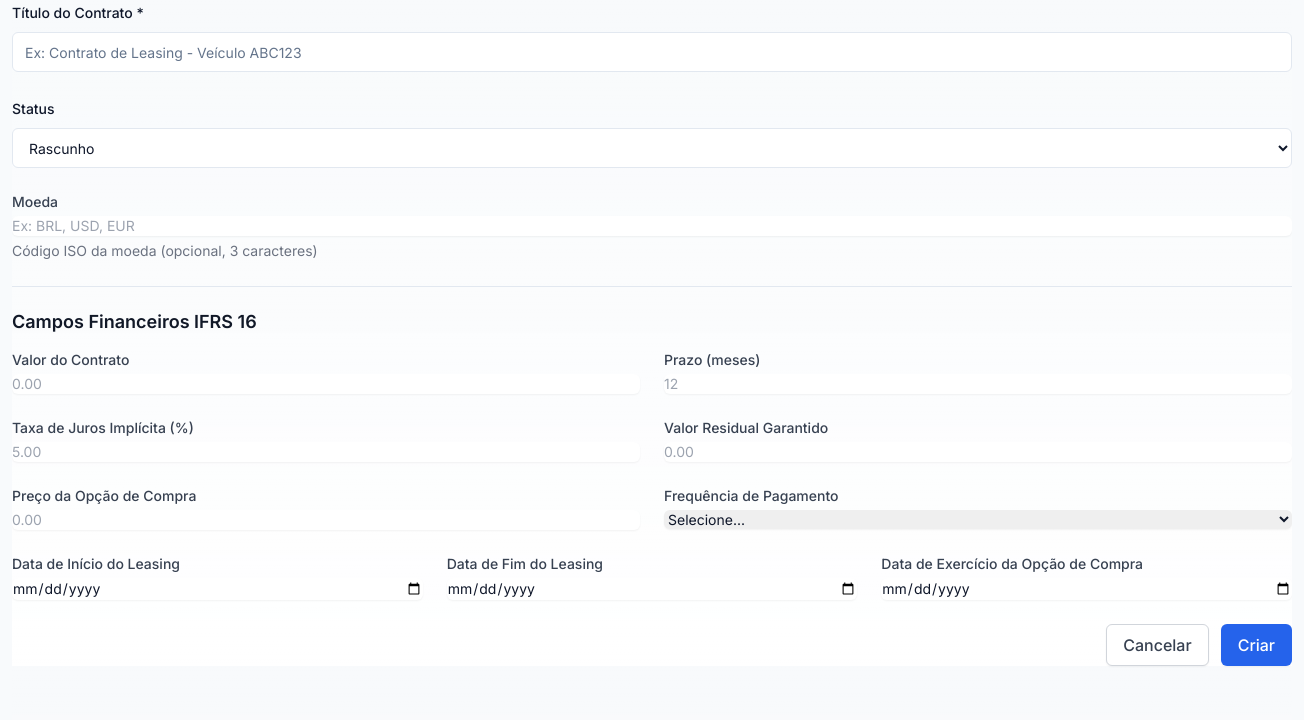
Test: ContractForm › validates required fields
The image size is (1304, 720).
Click the button "Criar" at (1256, 645), box [1221, 624, 1292, 666]
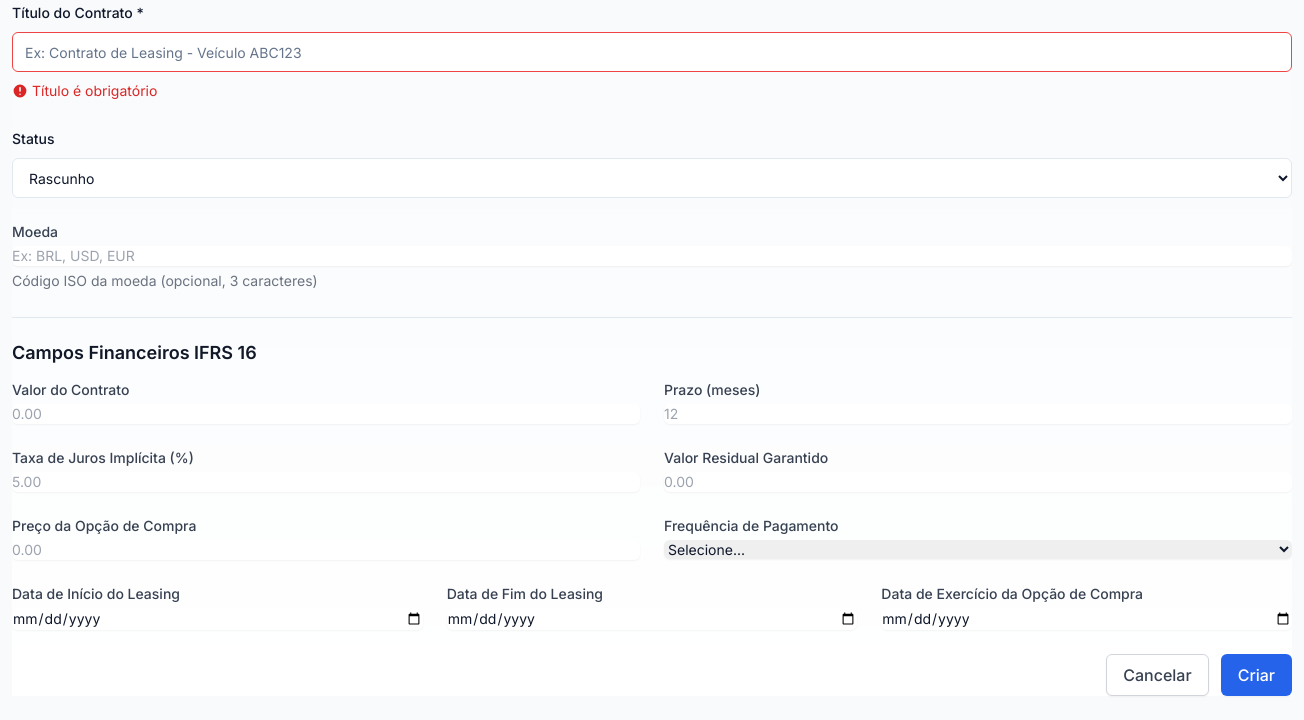
Now the text "Título é obrigatório" is shown, box [12, 82, 157, 99]
